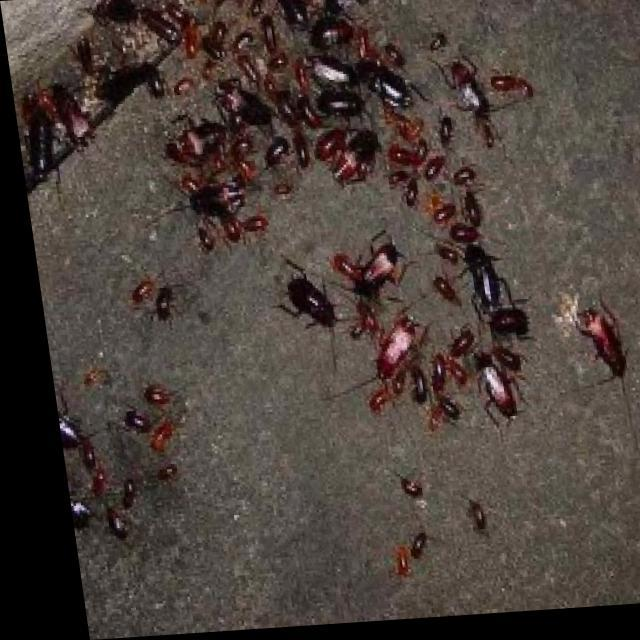cockroach: (566, 304, 626, 393), (434, 45, 494, 134), (270, 270, 348, 333), (205, 74, 281, 138), (348, 52, 426, 114), (18, 95, 64, 187), (44, 79, 101, 142), (338, 248, 410, 296), (109, 55, 174, 101), (309, 84, 372, 125), (486, 362, 523, 430), (488, 296, 542, 342), (308, 16, 367, 50), (142, 4, 183, 50), (491, 64, 537, 104), (44, 423, 98, 455), (72, 35, 106, 85), (253, 7, 287, 51), (430, 268, 461, 311), (435, 383, 463, 429), (465, 491, 494, 534), (107, 489, 130, 543), (152, 412, 182, 452), (292, 132, 319, 173), (391, 137, 426, 168), (186, 226, 222, 255), (412, 516, 430, 568), (266, 135, 290, 173), (451, 328, 477, 362), (405, 164, 423, 213), (156, 280, 175, 326), (394, 470, 423, 500), (423, 151, 452, 180), (122, 406, 150, 436), (448, 220, 488, 241), (465, 192, 487, 230), (445, 166, 477, 192), (143, 384, 177, 408), (236, 23, 256, 57), (430, 203, 458, 225), (136, 272, 156, 302), (243, 212, 270, 232), (179, 69, 193, 102), (443, 244, 459, 267)
